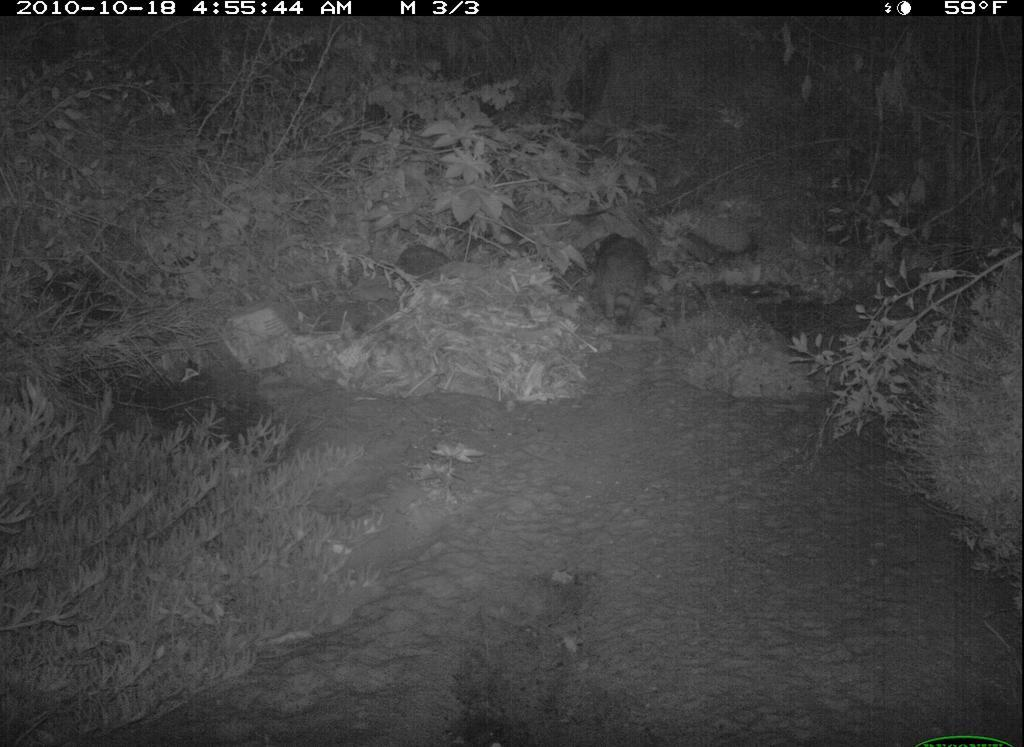raccoon: (571, 223, 669, 338)
